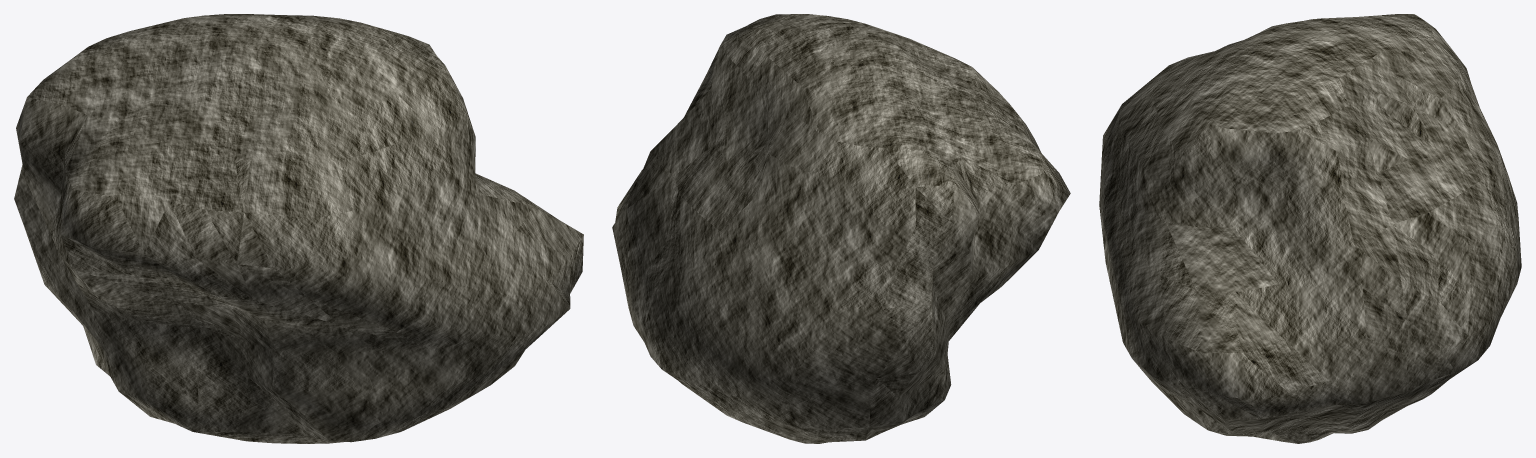
File: asteroid002.FBX
3 renders of one model, left to right at view 1: azimuth 30°, elevation 25°; view 2: azimuth 150°, elevation 25°; view 3: azimuth 270°, elevation 25°, orthographic. The views are drawn at different scales.
Parts seen in each view (by area): view 1: Sphere001; view 2: Sphere001; view 3: Sphere001.
Part boxes in pixels (box(x1,y1,x2,y2)): Sphere001: box(14, 14, 583, 443); Sphere001: box(612, 14, 1070, 443); Sphere001: box(1099, 14, 1521, 443).
Size of the model in its own units: 25.18 by 20 by 20.49.
